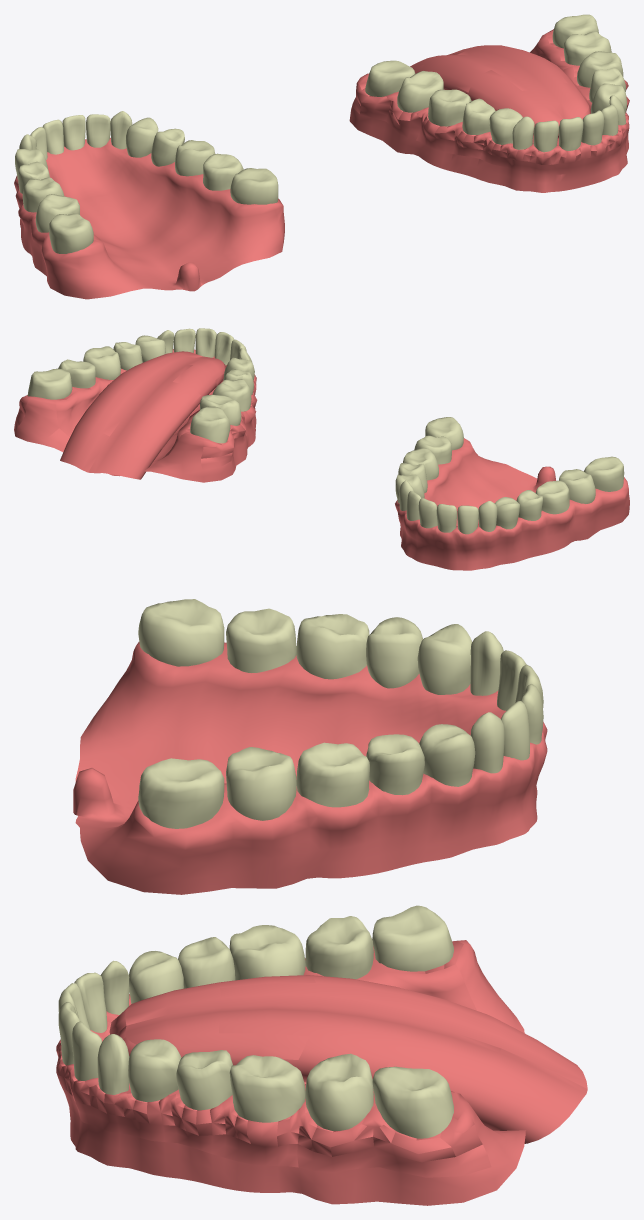
The model's file is habitooth_teeth.glb.
3 renders of one model, top to bottom at view 1: azimuth 30°, elevation 25°; view 2: azimuth 150°, elevation 25°; view 3: azimuth 270°, elevation 25°, orthographic. The views are drawn at different scales.
Visible parts, largest first — view 1: Cube.001, Cube.003, Cube.002, Cube.004, Cube.010; view 2: Cube.001, Cube.010, Cube.002, Cube.004, Cube.003; view 3: Cube.001, Cube.002, Cube.004, Cube.003, Cube.010.
Part boxes in pixels (box(x1,y1,x2,y2)): Cube.001: box(14, 137, 284, 299); Cube.003: box(349, 29, 629, 192); Cube.002: box(15, 111, 278, 253); Cube.004: box(365, 14, 626, 152); Cube.010: box(410, 45, 590, 138); Cube.001: box(395, 438, 629, 570); Cube.010: box(60, 351, 225, 479); Cube.002: box(395, 417, 624, 534); Cube.004: box(27, 328, 254, 443); Cube.003: box(14, 349, 257, 482); Cube.001: box(73, 642, 547, 894); Cube.002: box(138, 599, 543, 828); Cube.004: box(58, 905, 453, 1138); Cube.003: box(56, 940, 525, 1205); Cube.010: box(109, 975, 587, 1143).
Size of the model in its own units: 1.77 by 0.229 by 0.7473.
